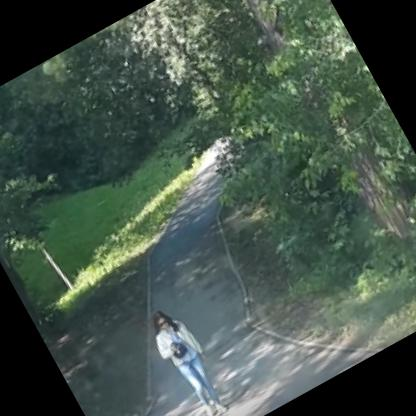Human Body: (135, 294, 238, 415)
